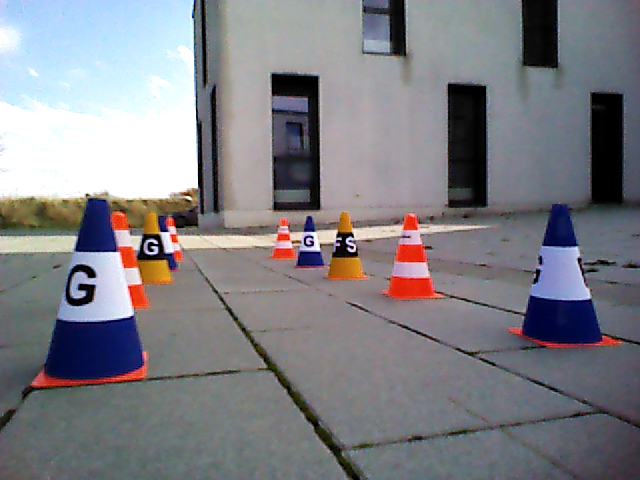bluecone: (45, 197, 144, 377), (519, 203, 609, 344), (297, 215, 326, 266)
orangeconesmall: (389, 213, 436, 296), (275, 217, 298, 258)
yellowcone: (329, 211, 366, 276), (139, 213, 171, 283)
